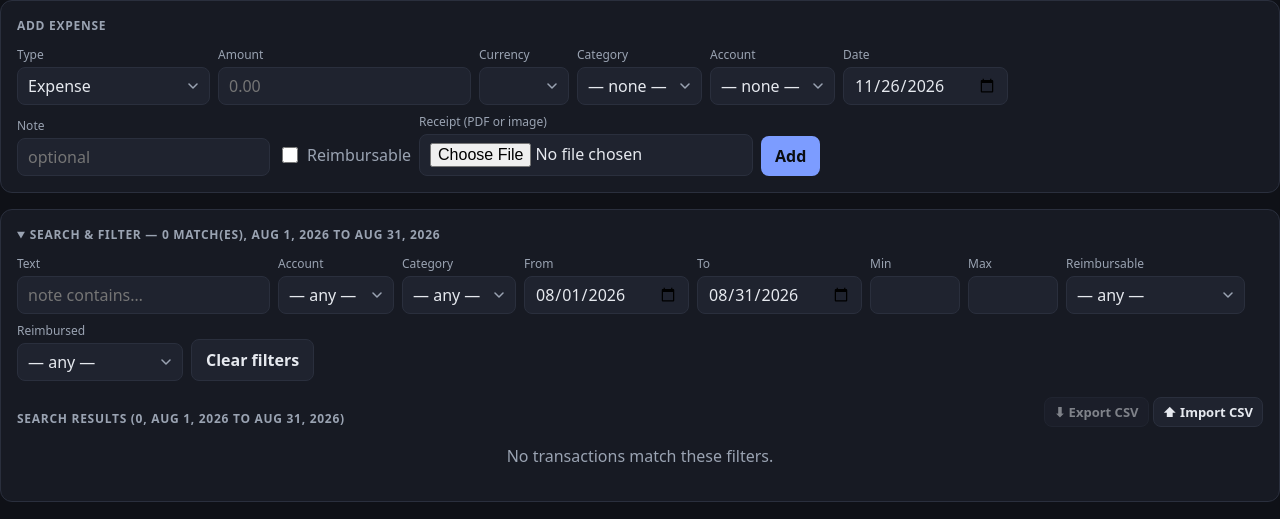
Test case: searches all months when both date bounds are cleared
The image size is (1280, 519).
expect the 3rd date field is shown: met, box [697,276,862,314]
Clear the date field below "From" at (606, 295), box [524,276,689,314]
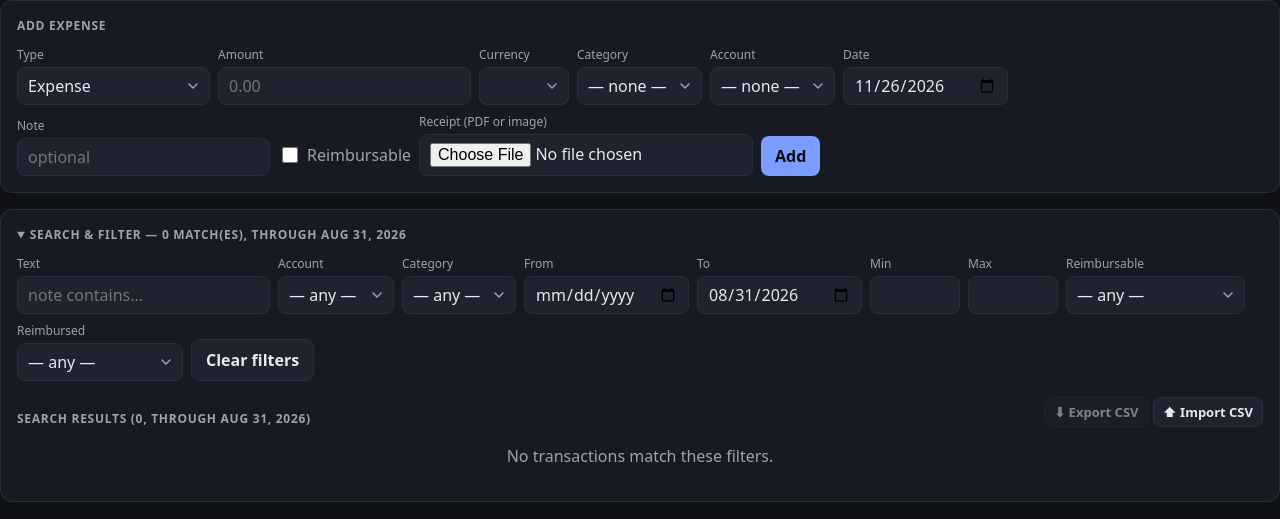
Clear the date field below "To" at (780, 295), box [697,276,862,314]
Wait 250 ms
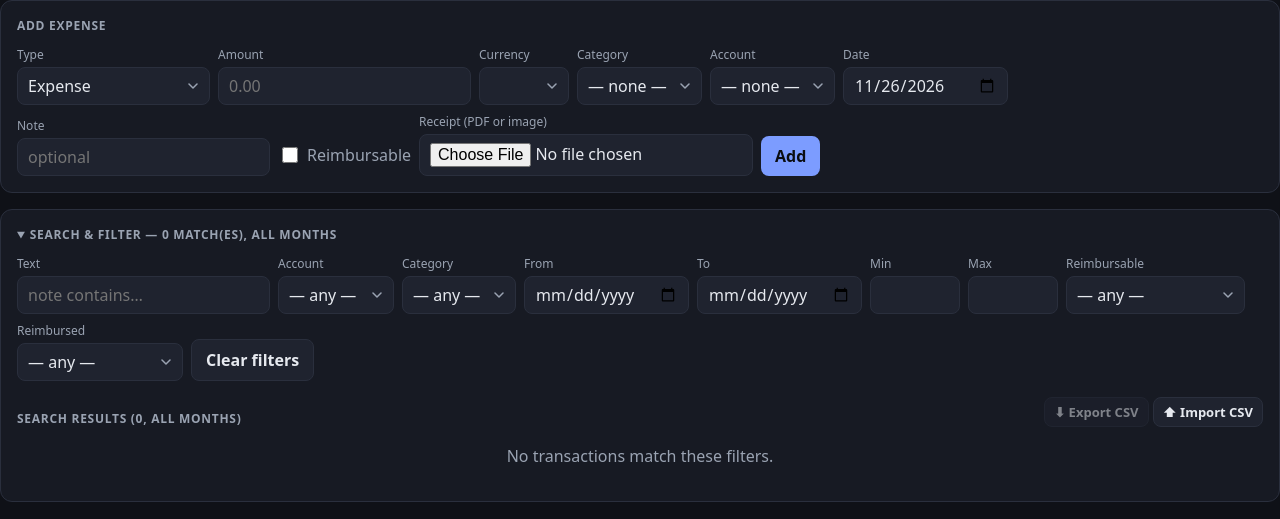
expect the heading "Search results (0, all months)" is shown: met, box [17,410,242,427]
